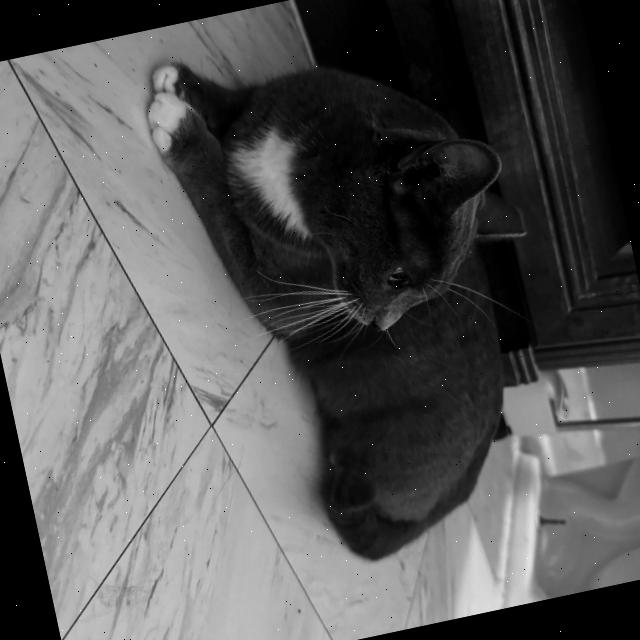russian_blue_cat: (274, 100, 550, 352)
